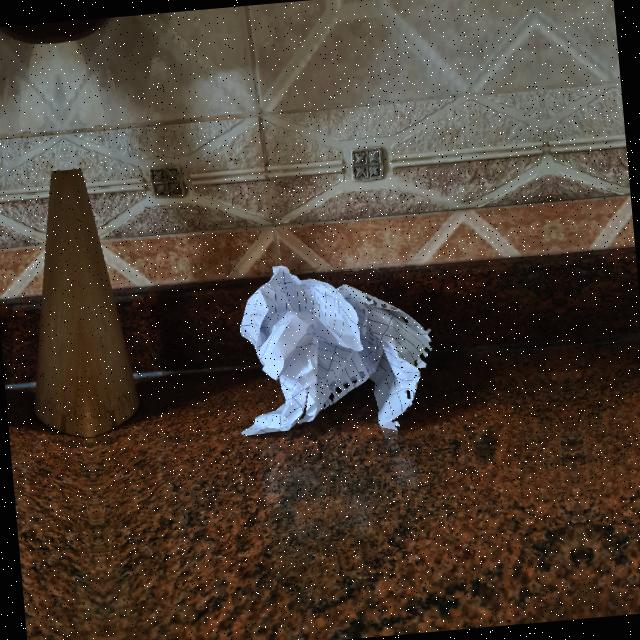paper: (230, 250, 451, 440)
